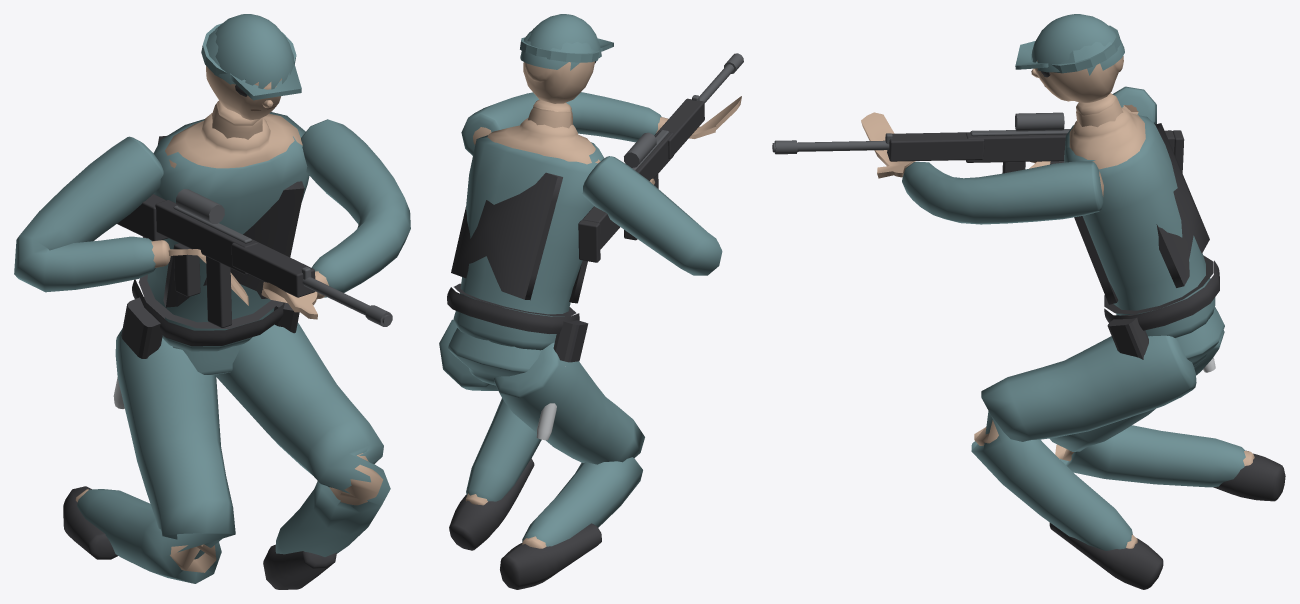
The model's file is tactical-shooter-hill-town-patrol-officer-crouch-aim-c273b87d__27564.glb.
The picture shows the model from 3 angles, left to right: view 1: azimuth 30°, elevation 25°; view 2: azimuth 150°, elevation 25°; view 3: azimuth 270°, elevation 25°; orthographic projection. The views are drawn at different scales.
Parts seen in each view (by area): view 1: patrol-officer-crouch-aim; view 2: patrol-officer-crouch-aim; view 3: patrol-officer-crouch-aim.
Boxes of the visible parts, x1,y1,x2,y2 form: patrol-officer-crouch-aim: (14,14,410,589); patrol-officer-crouch-aim: (439,14,743,589); patrol-officer-crouch-aim: (772,14,1285,589).
Size of the model in its own units: 0.7517 by 1.38 by 1.19.
